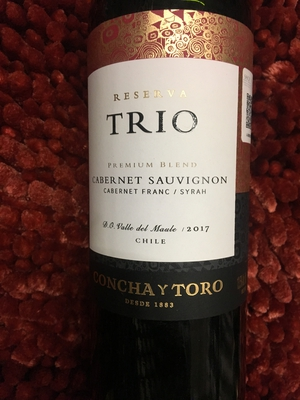trio cabernet sauvignon: (81, 9, 276, 380)
